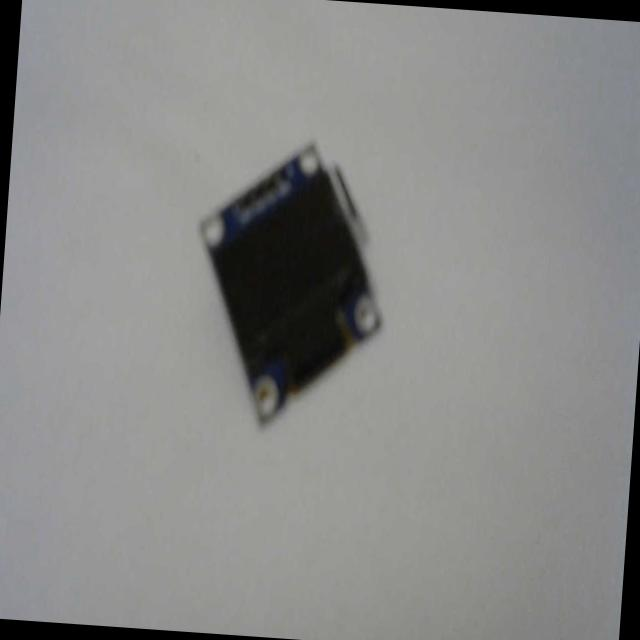oled: (186, 126, 400, 432)
